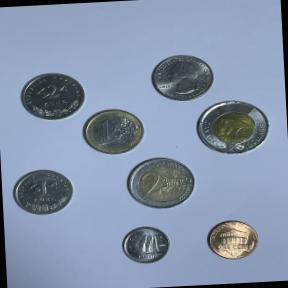coin: (194, 98, 274, 159), (122, 154, 200, 213), (15, 69, 88, 123), (147, 52, 216, 105), (82, 106, 148, 157), (200, 216, 264, 263), (115, 222, 174, 267)
